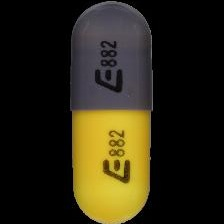0185-0644: (0, 0, 224, 224)
